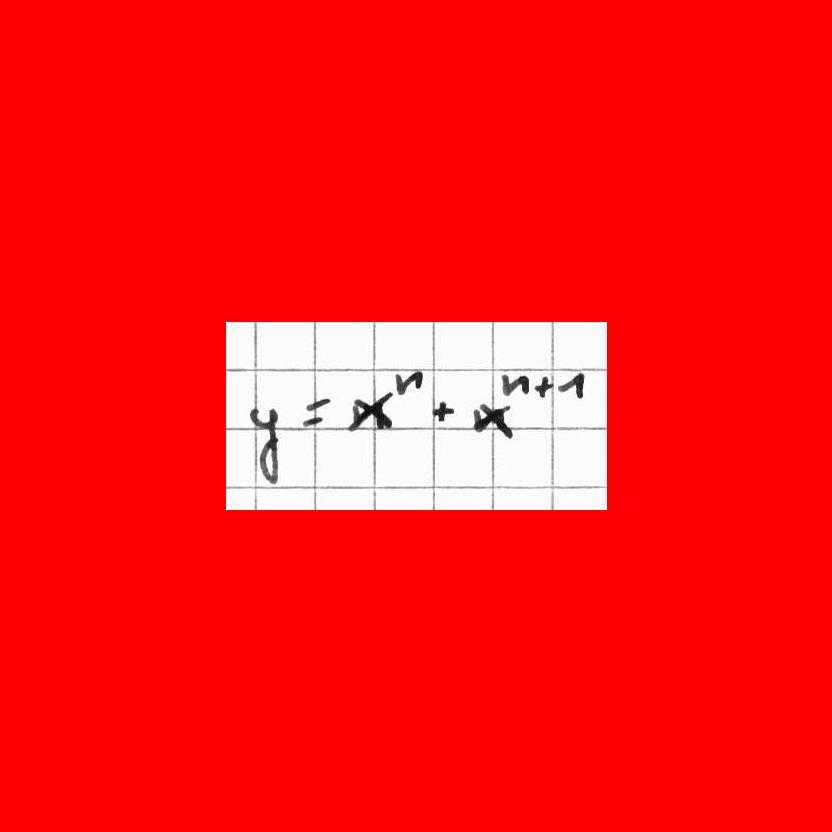Char: (247, 406, 282, 481), (348, 388, 392, 432), (469, 398, 512, 439), (299, 393, 330, 430), (557, 368, 585, 402), (392, 366, 424, 395), (502, 373, 531, 397), (430, 396, 453, 424), (535, 372, 552, 399)
